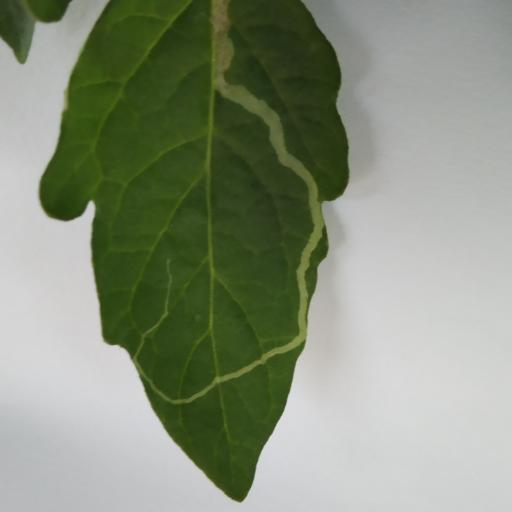Leaf_Miner: (33, 0, 353, 502)
